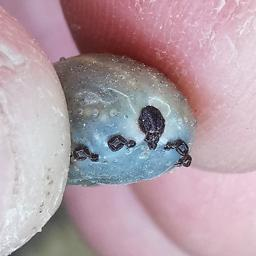Rhipicephalus sanguineus: (59, 55, 196, 188)
